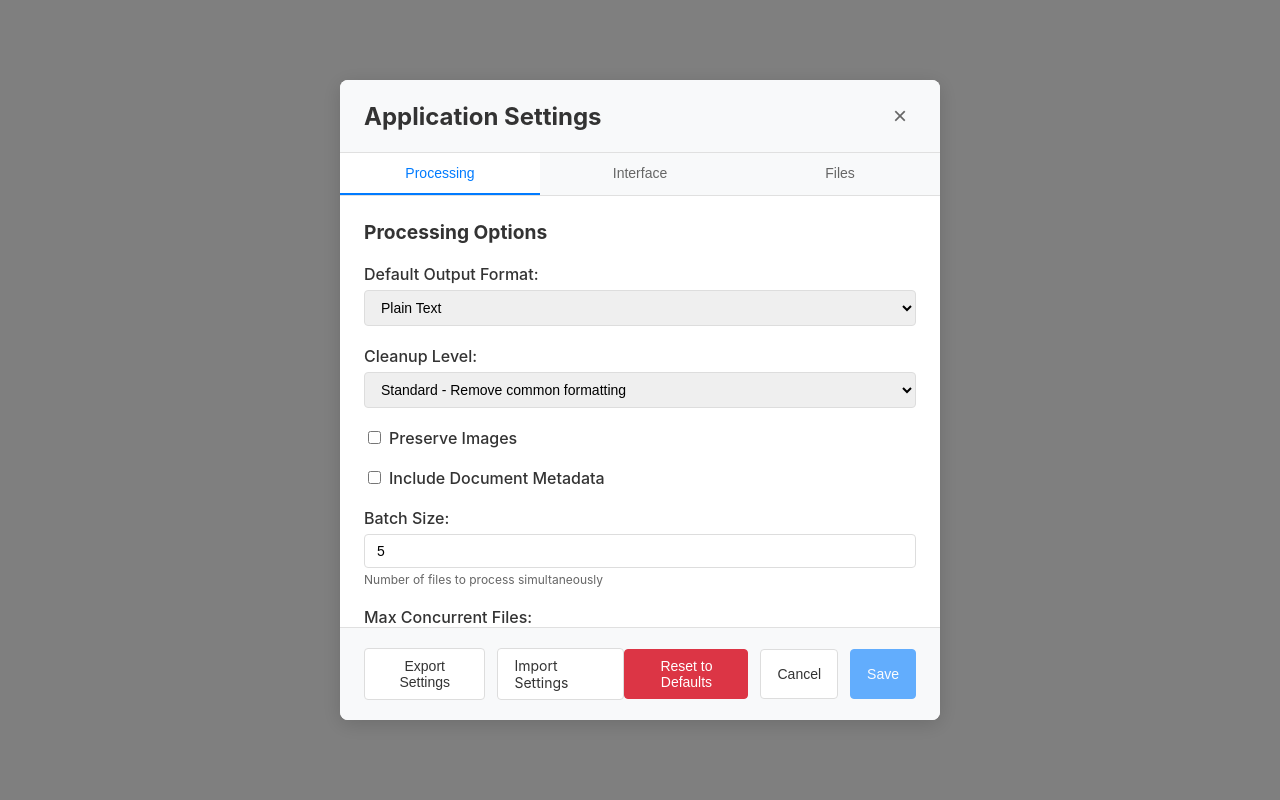
Test: SettingsPanel Component › tabs › should switch between tabs
Expected: the heading "Processing Options" is shown, x1=364 y1=220 x2=547 y2=244
# Switch to Interface tab
Click the button "Interface". click: (640, 174)
box: x1=540 y1=153 x2=740 y2=195
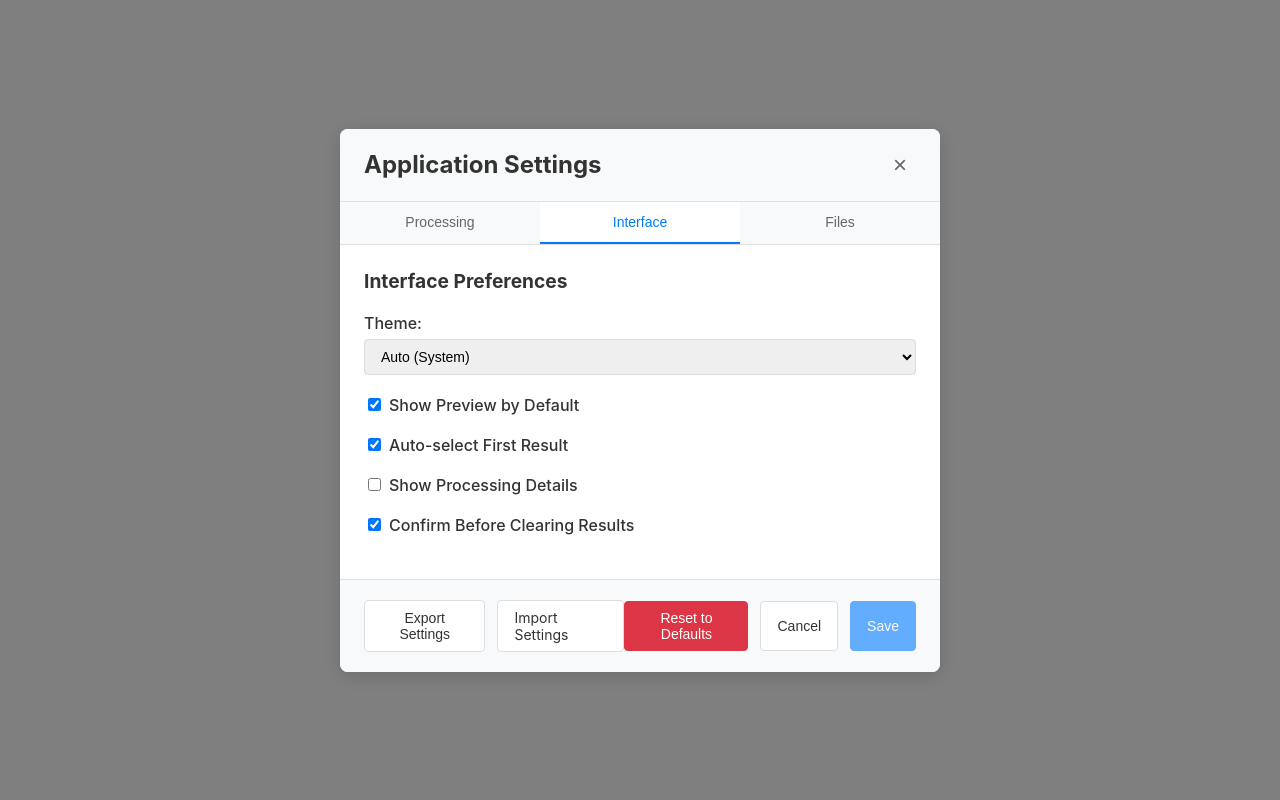
Now the heading "Interface Preferences" is shown, box x1=364 y1=268 x2=568 y2=292
# Switch to Files tab
Click the button "Files". click: (840, 222)
box: x1=740 y1=202 x2=940 y2=244
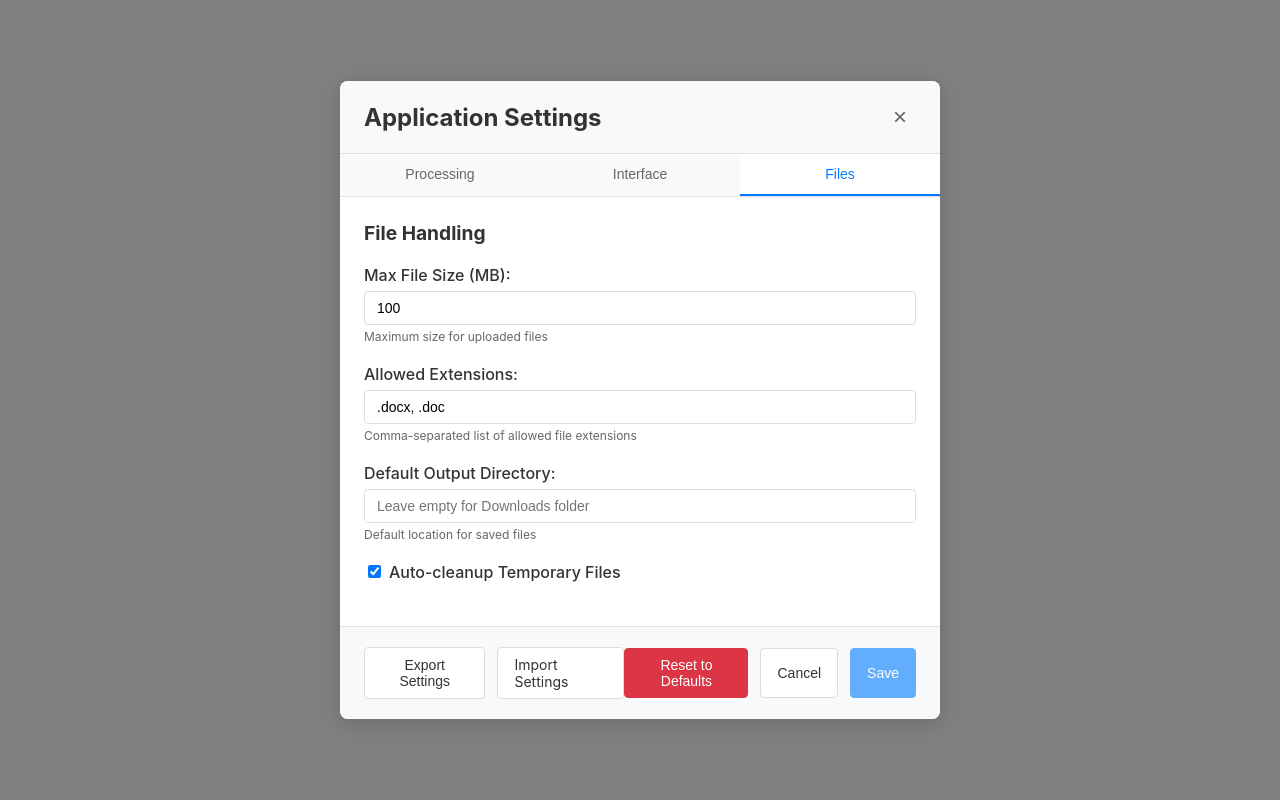
Now the heading "File Handling" is shown, box x1=364 y1=221 x2=486 y2=245
# Switch back to Processing tab
Click the button "Processing". click: (440, 175)
box: x1=340 y1=154 x2=540 y2=196
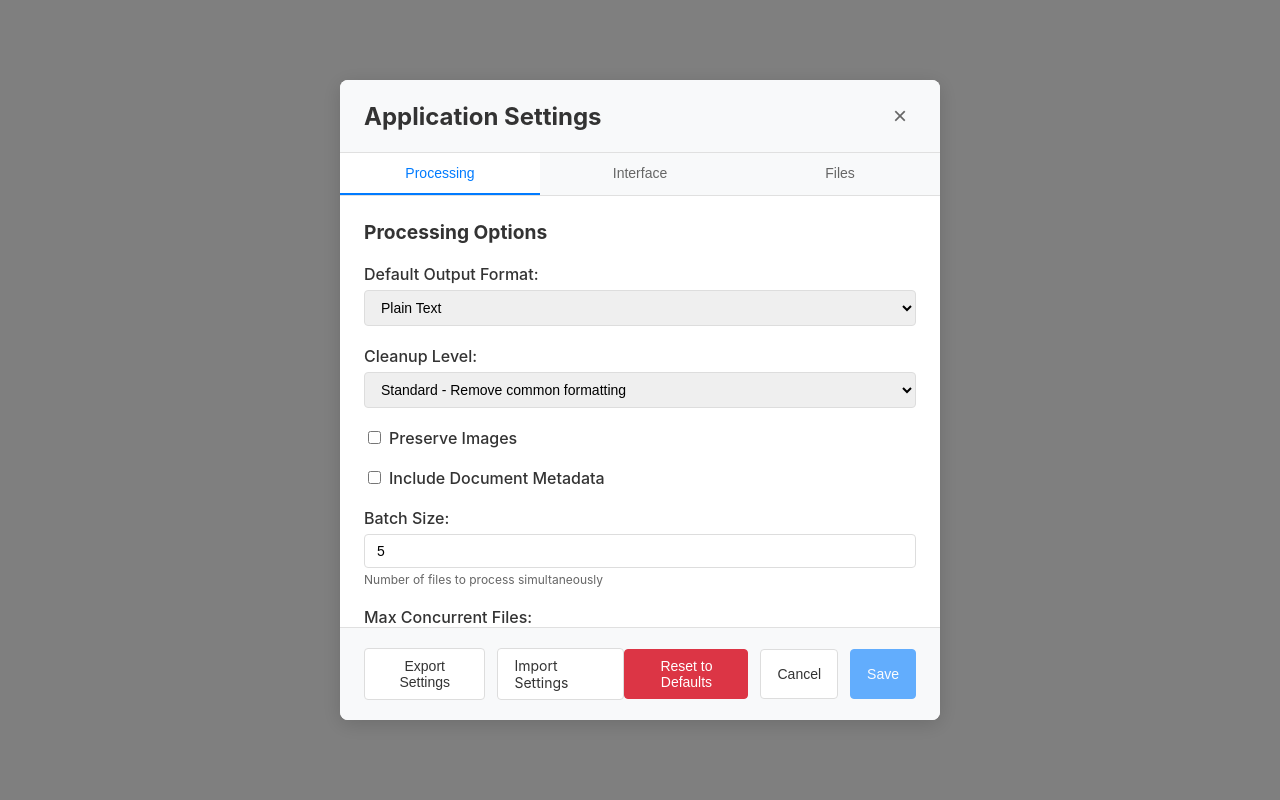
Now the heading "Processing Options" is shown, box x1=364 y1=220 x2=547 y2=244
